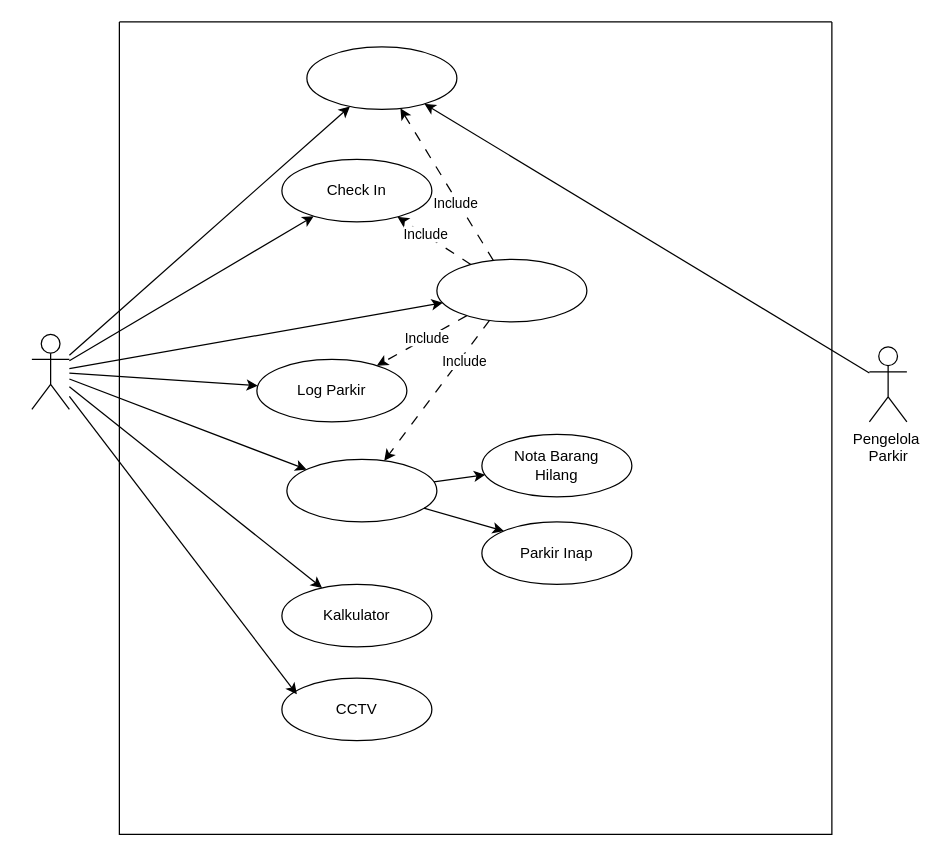
Image size: 945x856. Some labels were removed from this diagram. Here are the shapes that lost their labels. From the top down, the box of each, then its label:
(306, 46, 457, 109): Serah Terima Tugas
(436, 258, 587, 322): Autentikasi
(31, 333, 69, 409): Operator
(286, 458, 437, 522): Laporan
